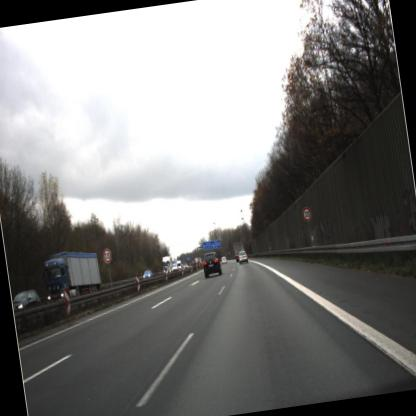prohibitory: (299, 199, 316, 226), (99, 246, 115, 266)
